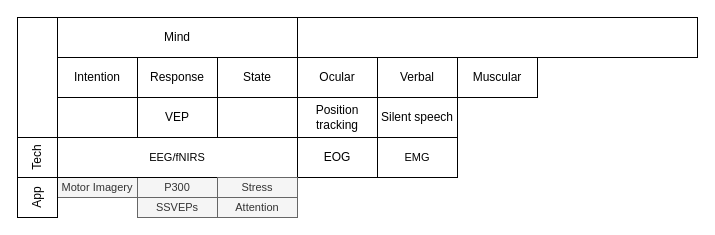
This 715x235 diagram has some shape labels left out. Here are the shapes that lost their labels. From the top down, the centre of each, then its label:
At point 497,37: "Body".
At point 37,77: "Aspect".
